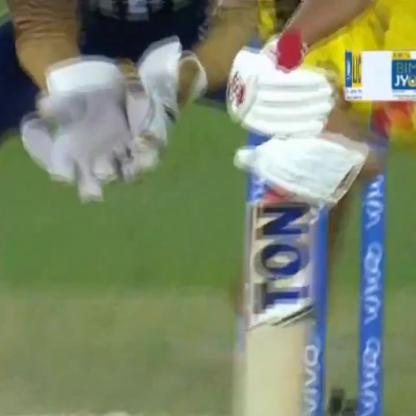bat: (219, 36, 335, 416)
